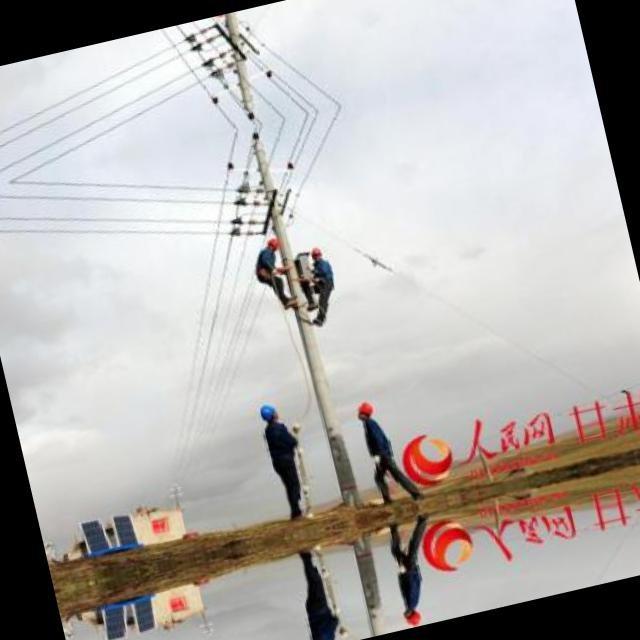helmet: (254, 398, 279, 425), (351, 397, 377, 422), (399, 602, 426, 626), (258, 232, 280, 254), (307, 242, 325, 263), (208, 13, 228, 25)
